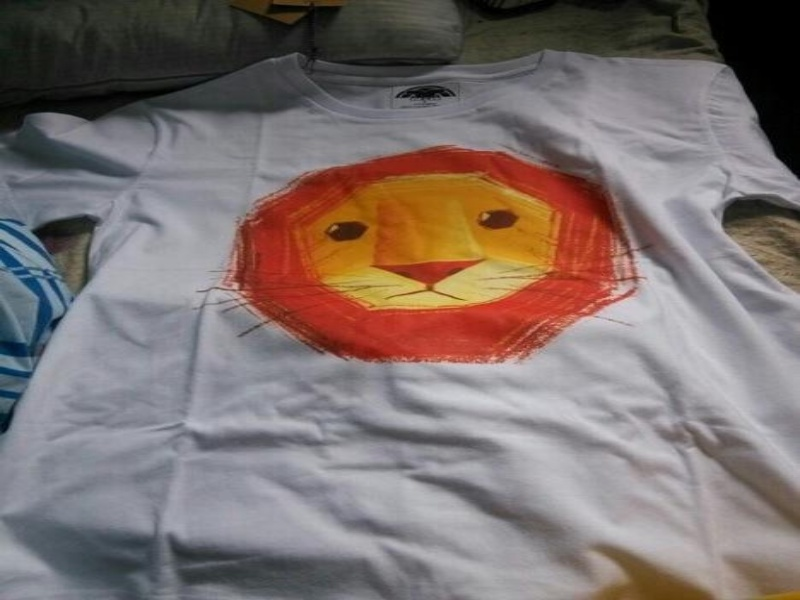short_sleeved_shirt: (0, 45, 798, 599)
